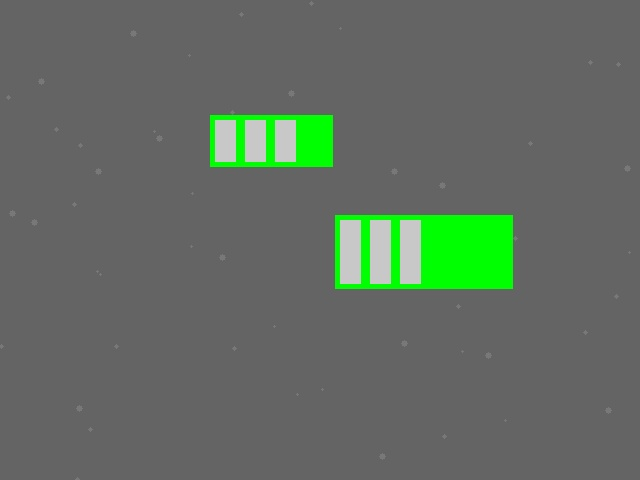bus: (335, 215, 512, 288), (210, 115, 332, 166)
